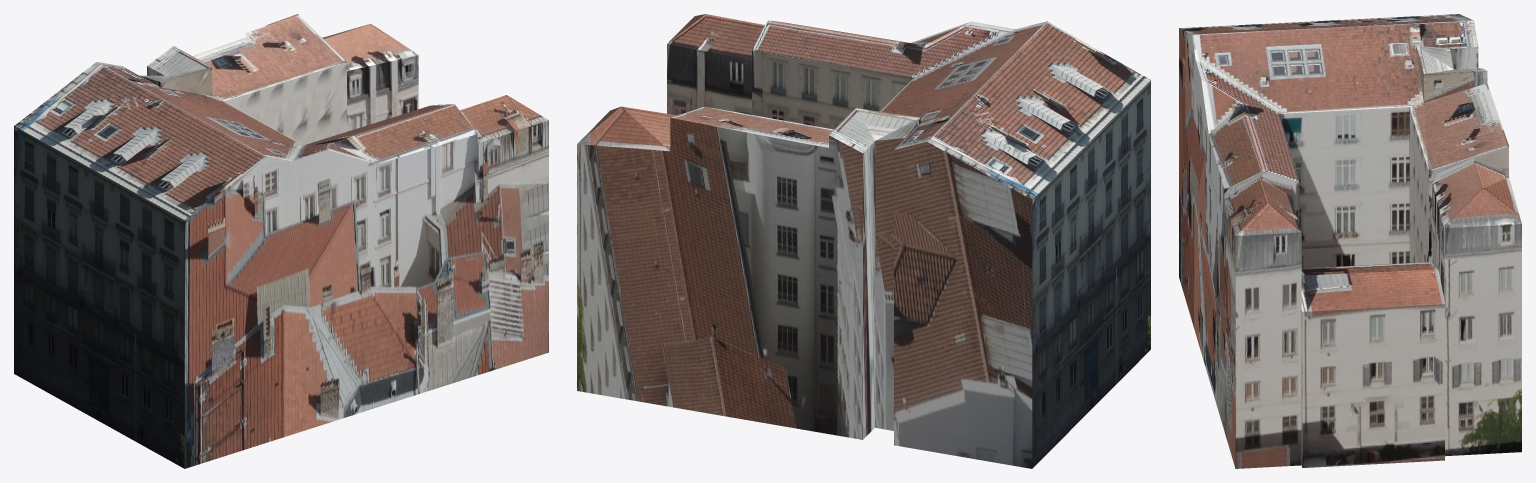
3 views of the same model, side by side, from view 1: azimuth 30°, elevation 25°; view 2: azimuth 150°, elevation 25°; view 3: azimuth 270°, elevation 25° (orthographic). The views are drawn at different scales.
Visible parts, largest first — view 1: Z_UP; view 2: Z_UP; view 3: Z_UP.
Boxes of the visible parts, bbox=[...] form: Z_UP: bbox=[14, 14, 548, 468]; Z_UP: bbox=[577, 14, 1150, 468]; Z_UP: bbox=[1179, 14, 1521, 468].
Bounding box in the file's own units: 38.7 × 24.98 × 27.14.
2 materials, 1 textured.
